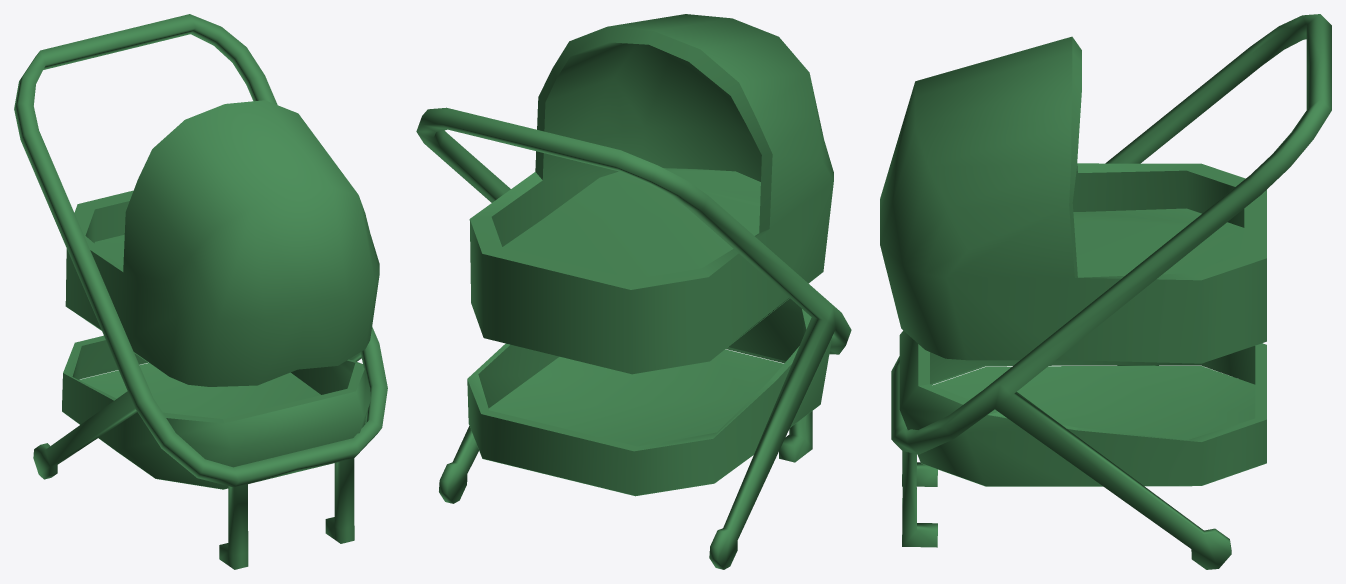
File: Stroller.DAE
3 renders of one model, left to right at view 1: azimuth 30°, elevation 25°; view 2: azimuth 150°, elevation 25°; view 3: azimuth 270°, elevation 25°, orthographic. The views are drawn at different scales.
Parts seen in each view (by area): view 1: Box001; view 2: Box001; view 3: Box001.
Part boxes in pixels (x1,y1,x2,y2): Box001: [14, 14, 387, 569]; Box001: [416, 14, 851, 569]; Box001: [880, 14, 1331, 569].
Bounding box in the file's own units: 0.8792 × 1.39 × 1.23.
